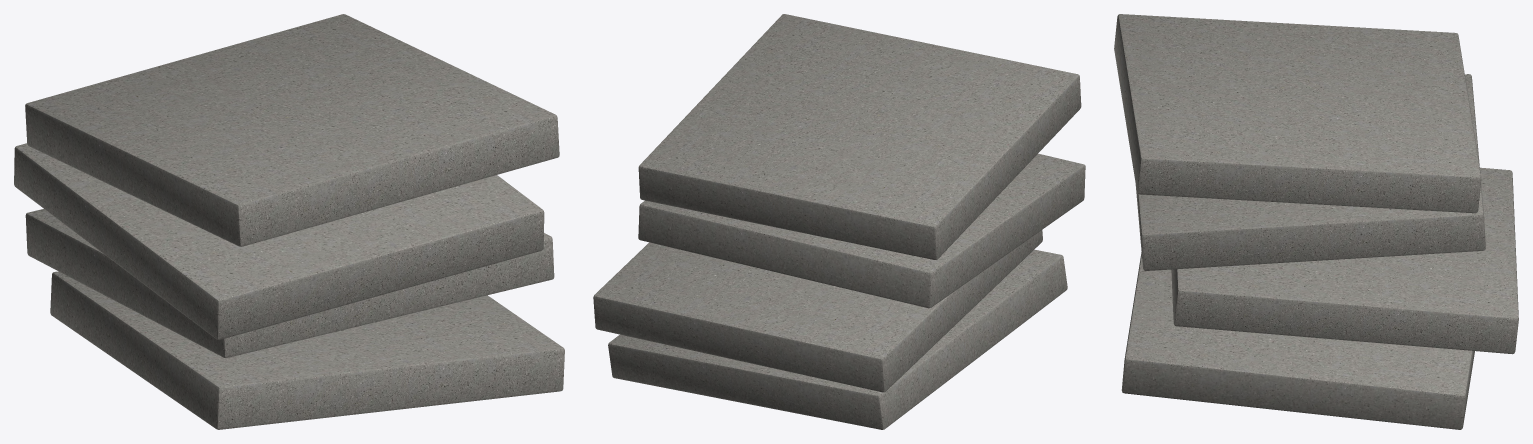
File: PAV-BLQ-006_anim.glb
3 views of the same model, side by side, from view 1: azimuth 30°, elevation 25°; view 2: azimuth 150°, elevation 25°; view 3: azimuth 270°, elevation 25° (orthographic). The views are drawn at different scales.
Parts seen in each view (by area): view 1: PAV-BLQ-006_anim3, PAV-BLQ-006_anim2, PAV-BLQ-006_anim0, PAV-BLQ-006_anim1; view 2: PAV-BLQ-006_anim3, PAV-BLQ-006_anim1, PAV-BLQ-006_anim2, PAV-BLQ-006_anim0; view 3: PAV-BLQ-006_anim3, PAV-BLQ-006_anim1, PAV-BLQ-006_anim0, PAV-BLQ-006_anim2.
Boxes of the visible parts, box(x1,y1,x2,y2) form: PAV-BLQ-006_anim3: box(25, 14, 559, 246); PAV-BLQ-006_anim2: box(14, 143, 544, 339); PAV-BLQ-006_anim0: box(50, 271, 564, 429); PAV-BLQ-006_anim1: box(25, 209, 554, 357); PAV-BLQ-006_anim3: box(638, 14, 1081, 259); PAV-BLQ-006_anim1: box(593, 230, 1042, 392); PAV-BLQ-006_anim2: box(638, 153, 1085, 308); PAV-BLQ-006_anim0: box(608, 249, 1067, 429); PAV-BLQ-006_anim3: box(1114, 14, 1481, 213); PAV-BLQ-006_anim1: box(1171, 167, 1518, 354); PAV-BLQ-006_anim0: box(1121, 252, 1474, 429); PAV-BLQ-006_anim2: box(1135, 74, 1485, 270).
Size of the model in its own units: 0.5694 by 0.4258 by 0.5894.
1 material, 1 textured.
